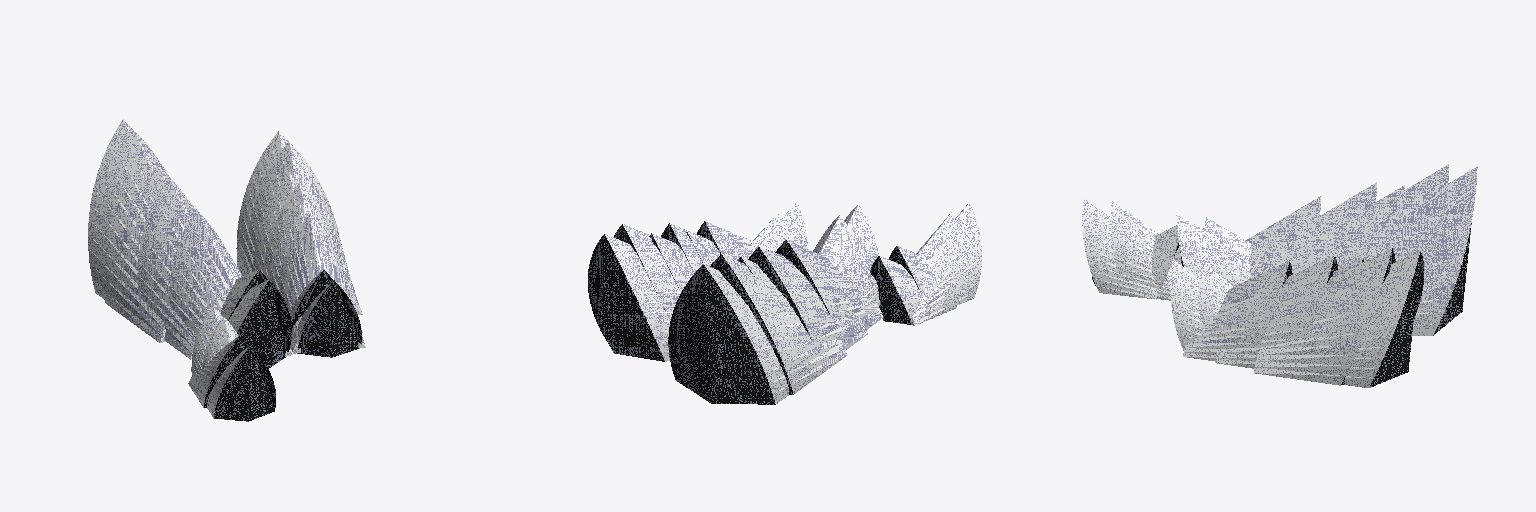
Rendered from SidOp.obj.
3 renders of one model, left to right at view 1: azimuth 30°, elevation 25°; view 2: azimuth 150°, elevation 25°; view 3: azimuth 270°, elevation 25°, orthographic.
Visible parts, largest first — view 1: Mesh15 shello_layer_1_6 Model, Mesh11 shello_layer_1_4 Model, Mesh13 shello_layer_1_5 Model, Mesh27 shello_layer_1_10 Model, Mesh17 shello_layer_1_7 Model, Mesh21 shello_layer3 Model, Mesh9 shello_layer2 Model, Mesh19 shello_layer_1_8 Model, Mesh31 shello_layer_1_12 Model, Mesh7 shello_layer_1_3 Model, Mesh23 shello_layer_1_9 Model, Mesh39 shello_layer_1_14 Model (+6 smaller); view 2: Mesh7 shello_layer_1_3 Model, Mesh31 shello_layer_1_12 Model, Mesh15 shello_layer_1_6 Model, Mesh13 shello_layer_1_5 Model, Mesh39 shello_layer_1_14 Model, Mesh11 shello_layer_1_4 Model, Mesh37 shello_layer6 Model, Mesh19 shello_layer_1_8 Model, Mesh1 shello_layer1 Model, Mesh27 shello_layer_1_10 Model, Mesh9 shello_layer2 Model, Mesh17 shello_layer_1_7 Model (+6 smaller); view 3: Mesh19 shello_layer_1_8 Model, Mesh31 shello_layer_1_12 Model, Mesh7 shello_layer_1_3 Model, Mesh17 shello_layer_1_7 Model, Mesh23 shello_layer_1_9 Model, Mesh11 shello_layer_1_4 Model, Mesh15 shello_layer_1_6 Model, Mesh27 shello_layer_1_10 Model, Mesh39 shello_layer_1_14 Model, Mesh1 shello_layer1 Model, Mesh21 shello_layer3 Model, Mesh13 shello_layer_1_5 Model (+5 smaller).
Part boxes in pixels (bbox=[...]): Mesh15 shello_layer_1_6 Model: bbox=[98, 130, 168, 342]; Mesh11 shello_layer_1_4 Model: bbox=[169, 209, 293, 356]; Mesh13 shello_layer_1_5 Model: bbox=[137, 176, 195, 359]; Mesh27 shello_layer_1_10 Model: bbox=[207, 346, 275, 421]; Mesh17 shello_layer_1_7 Model: bbox=[278, 214, 365, 353]; Mesh21 shello_layer3 Model: bbox=[297, 280, 361, 357]; Mesh9 shello_layer2 Model: bbox=[229, 280, 291, 368]; Mesh19 shello_layer_1_8 Model: bbox=[249, 142, 362, 314]; Mesh31 shello_layer_1_12 Model: bbox=[236, 131, 288, 275]; Mesh7 shello_layer_1_3 Model: bbox=[88, 119, 132, 299]; Mesh23 shello_layer_1_9 Model: bbox=[265, 183, 362, 332]; Mesh39 shello_layer_1_14 Model: bbox=[188, 335, 249, 407]; Mesh7 shello_layer_1_3 Model: bbox=[668, 264, 788, 404]; Mesh31 shello_layer_1_12 Model: bbox=[588, 234, 672, 361]; Mesh15 shello_layer_1_6 Model: bbox=[710, 254, 847, 394]; Mesh13 shello_layer_1_5 Model: bbox=[748, 247, 867, 349]; Mesh39 shello_layer_1_14 Model: bbox=[909, 212, 963, 325]; Mesh11 shello_layer_1_4 Model: bbox=[775, 240, 882, 329]; Mesh37 shello_layer6 Model: bbox=[870, 256, 919, 324]; Mesh19 shello_layer_1_8 Model: bbox=[614, 224, 680, 311]; Mesh1 shello_layer1 Model: bbox=[813, 214, 862, 290]; Mesh27 shello_layer_1_10 Model: bbox=[955, 202, 981, 304]; Mesh9 shello_layer2 Model: bbox=[844, 204, 879, 305]; Mesh17 shello_layer_1_7 Model: bbox=[697, 221, 754, 259]; Mesh19 shello_layer_1_8 Model: bbox=[1254, 248, 1395, 385]; Mesh31 shello_layer_1_12 Model: bbox=[1344, 250, 1423, 387]; Mesh7 shello_layer_1_3 Model: bbox=[1412, 166, 1477, 335]; Mesh17 shello_layer_1_7 Model: bbox=[1183, 260, 1292, 360]; Mesh23 shello_layer_1_9 Model: bbox=[1215, 255, 1337, 368]; Mesh11 shello_layer_1_4 Model: bbox=[1246, 196, 1320, 278]; Mesh15 shello_layer_1_6 Model: bbox=[1395, 164, 1448, 278]; Mesh27 shello_layer_1_10 Model: bbox=[1082, 199, 1156, 299]; Mesh39 shello_layer_1_14 Model: bbox=[1110, 201, 1170, 300]; Mesh1 shello_layer1 Model: bbox=[1205, 217, 1250, 286]; Mesh21 shello_layer3 Model: bbox=[1170, 259, 1207, 350]; Mesh13 shello_layer_1_5 Model: bbox=[1339, 182, 1376, 268].
Bounding box in the file's own units: 1.26 × 0.7039 × 1.71.